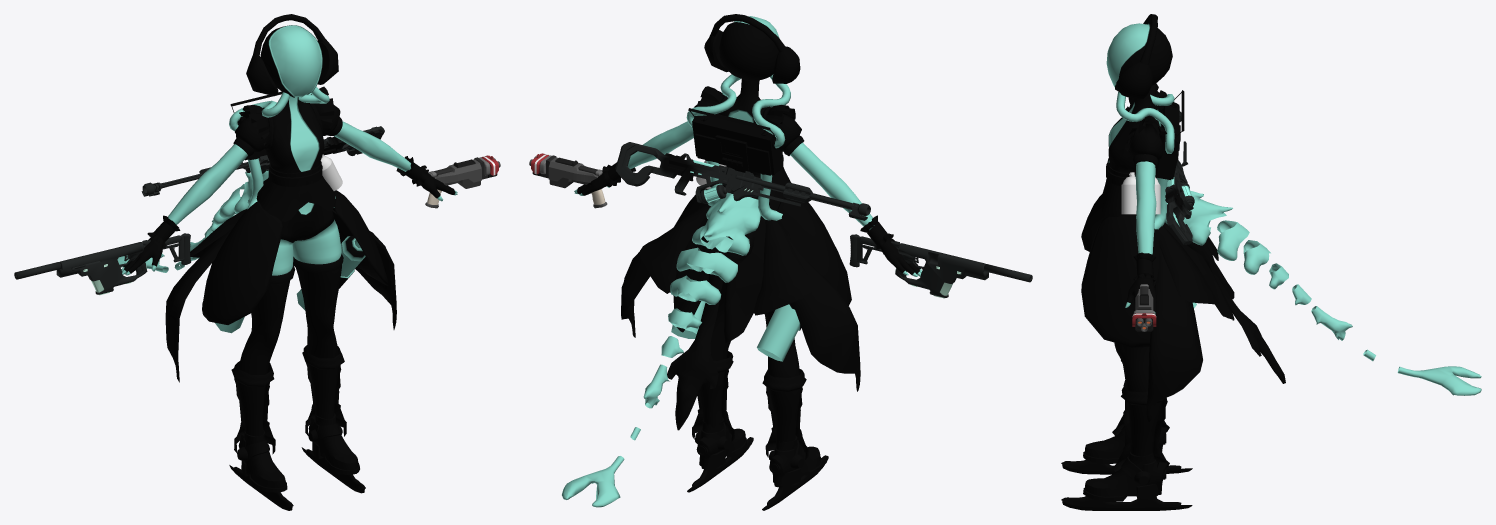
The model's file is hydro.fbx.
The picture shows the model from 3 angles, left to right: view 1: azimuth 30°, elevation 25°; view 2: azimuth 150°, elevation 25°; view 3: azimuth 270°, elevation 25°; orthographic projection. The views are drawn at different scales.
Visible parts, largest first — view 1: meshBody, meshSmg, meshShotgun, meshSniper; view 2: meshBody, meshSniper, meshSmg, meshShotgun; view 3: meshBody, meshSniper, meshShotgun, Bottles.
Part boxes in pixels (bbox=[...]): meshBody: bbox=[117, 14, 457, 510]; meshSmg: bbox=[14, 233, 191, 295]; meshShotgun: bbox=[425, 155, 500, 208]; meshSniper: bbox=[141, 126, 384, 196]; meshBody: bbox=[562, 14, 921, 510]; meshSniper: bbox=[615, 142, 870, 220]; meshSmg: bbox=[849, 234, 1032, 298]; meshShotgun: bbox=[529, 153, 607, 208]; meshBody: bbox=[1061, 14, 1481, 510]; meshSniper: bbox=[1165, 103, 1194, 244]; meshShotgun: bbox=[1132, 284, 1156, 331]; Bottles: bbox=[1121, 172, 1160, 214].
Bounding box in the file's own units: 2.21 × 2.02 × 1.62.
